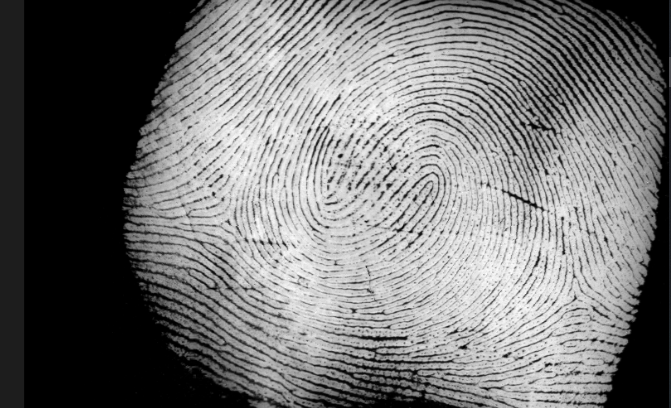nucelo: (409, 163, 450, 217)
verticilo: (556, 276, 596, 309), (209, 201, 240, 236)
